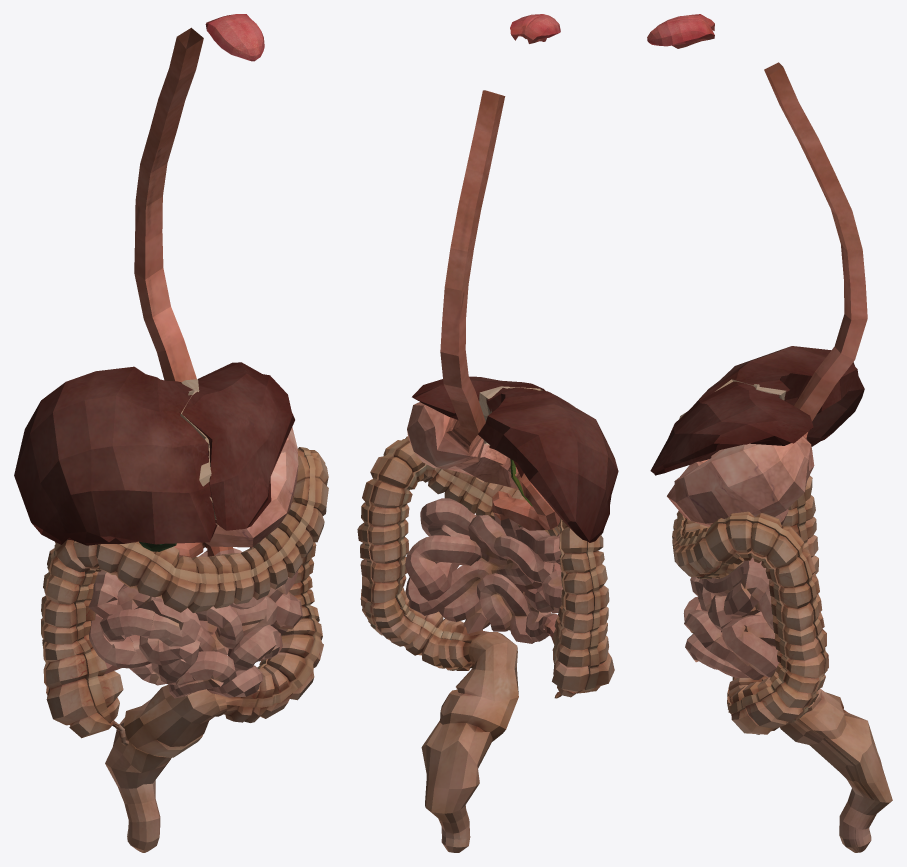
File: stmoch.obj
3 renders of one model, left to right at view 1: azimuth 30°, elevation 25°; view 2: azimuth 150°, elevation 25°; view 3: azimuth 270°, elevation 25°, orthographic. The views are drawn at different scales.
Parts seen in each view (by area): view 1: group1 Digestive_Liver_geo, group1 Digestive_Colon_geo, group1 Digestive_Small_Intestine_geo, group1 Digestive_Stomach_geo, Digestive_Tongue_geo group1, group1 Digestove_Falciform_Ligament_geo; view 2: group1 Digestive_Colon_geo, group1 Digestive_Small_Intestine_geo, group1 Digestive_Stomach_geo, group1 Digestive_Liver_geo, Digestive_Tongue_geo group1; view 3: group1 Digestive_Colon_geo, group1 Digestive_Stomach_geo, group1 Digestive_Liver_geo, group1 Digestive_Small_Intestine_geo, Digestive_Tongue_geo group1.
Boxes of the visible parts, <box> form: group1 Digestive_Liver_geo: <box>14,362,294,545</box>; group1 Digestive_Colon_geo: <box>41,447,328,852</box>; group1 Digestive_Small_Intestine_geo: <box>88,547,302,698</box>; group1 Digestive_Stomach_geo: <box>134,27,298,557</box>; Digestive_Tongue_geo group1: <box>205,14,264,61</box>; group1 Digestove_Falciform_Ligament_geo: <box>180,379,218,526</box>; group1 Digestive_Colon_geo: <box>357,436,614,852</box>; group1 Digestive_Small_Intestine_geo: <box>405,498,562,643</box>; group1 Digestive_Stomach_geo: <box>407,90,560,530</box>; group1 Digestive_Liver_geo: <box>412,376,618,542</box>; Digestive_Tongue_geo group1: <box>510,14,560,43</box>; group1 Digestive_Colon_geo: <box>672,475,892,852</box>; group1 Digestive_Stomach_geo: <box>667,62,867,526</box>; group1 Digestive_Liver_geo: <box>650,346,864,475</box>; group1 Digestive_Small_Intestine_geo: <box>683,509,788,679</box>; Digestive_Tongue_geo group1: <box>647,14,714,48</box>.
Bounding box in the file's own units: 22.98 × 70.31 × 18.81.
